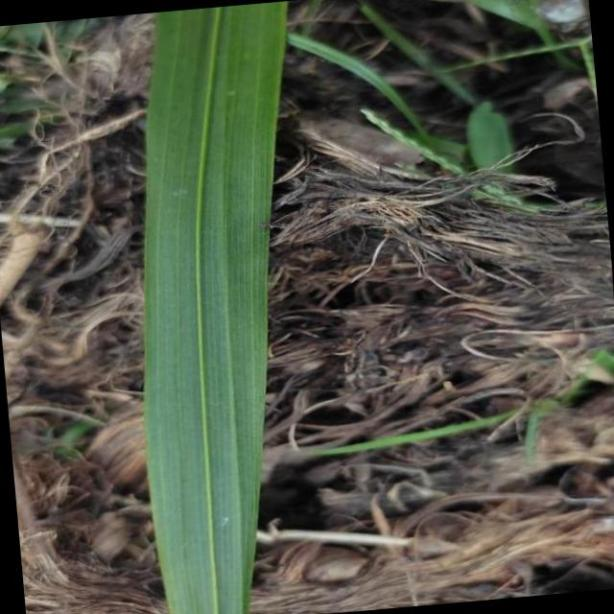Healthy: (141, 1, 288, 614)
